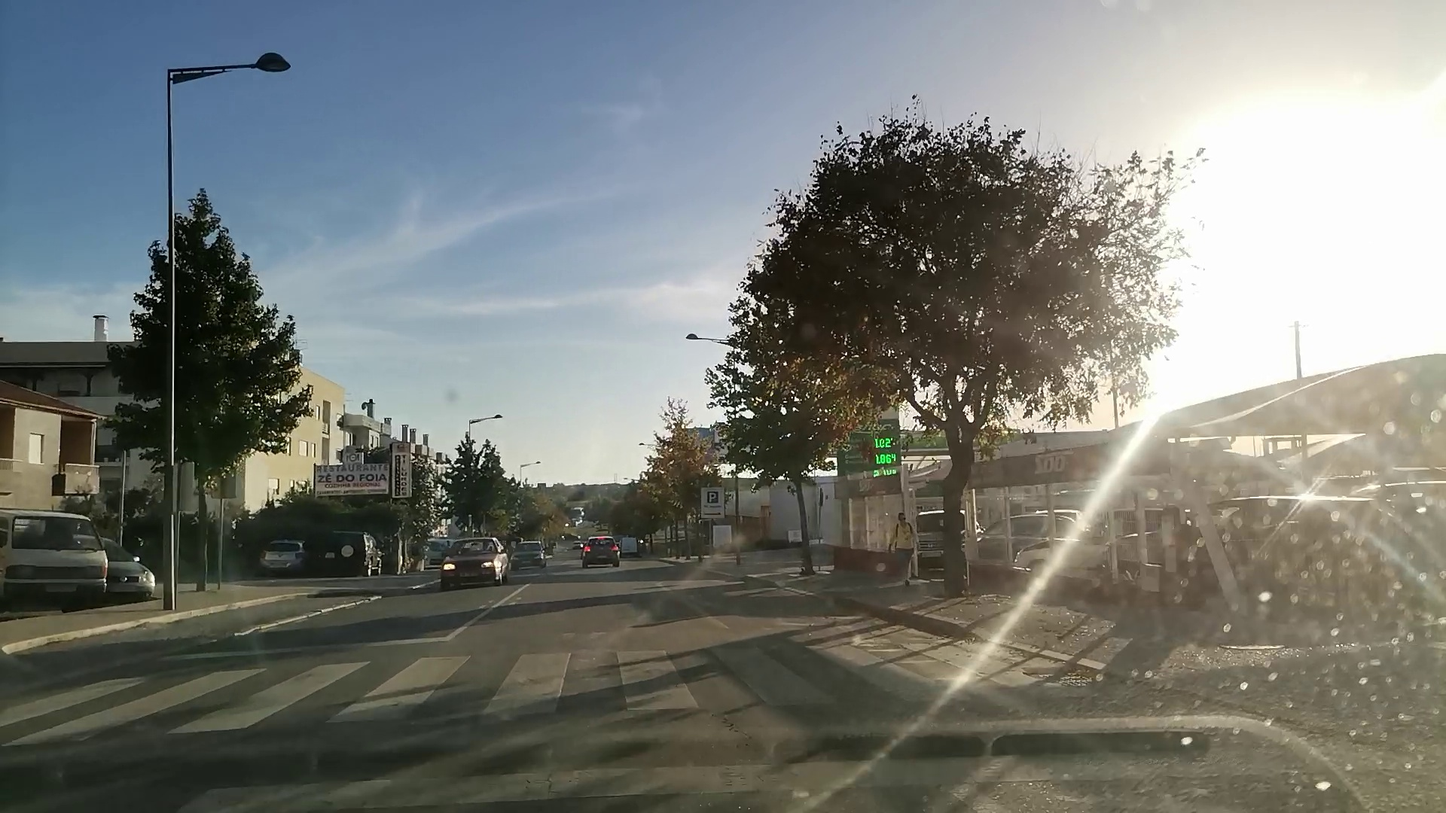Stairs: (0, 635, 1056, 747)
